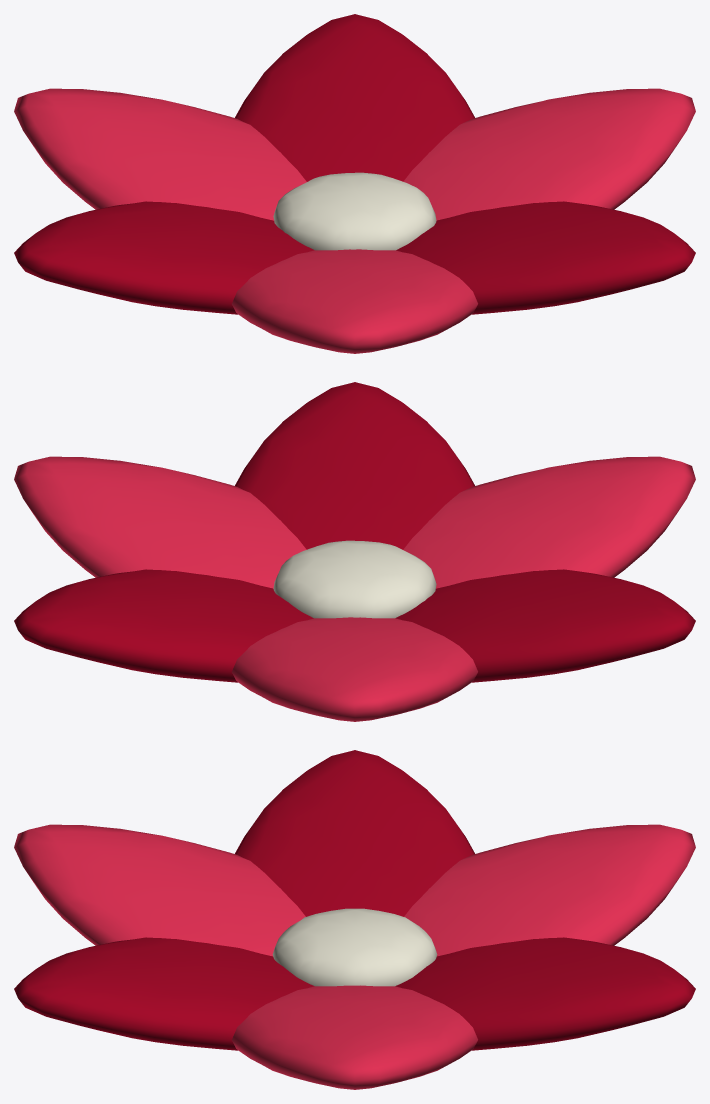
File: SM_Blume_03.fbx
3 views of the same model, one above another, from view 1: azimuth 30°, elevation 25°; view 2: azimuth 150°, elevation 25°; view 3: azimuth 270°, elevation 25° (orthographic).
Visible parts, largest first — view 1: Blume_03.001; view 2: Blume_03.001; view 3: Blume_03.001.
Boxes of the visible parts, box(x1,y1,x2,y2) form: Blume_03.001: box(14, 14, 695, 353); Blume_03.001: box(14, 382, 695, 721); Blume_03.001: box(14, 750, 695, 1089).
Size of the model in its own units: 104 by 13.34 by 90.7.
